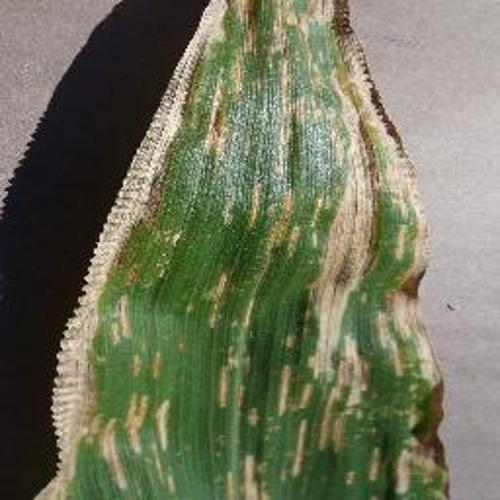Corn: (29, 0, 448, 500)
